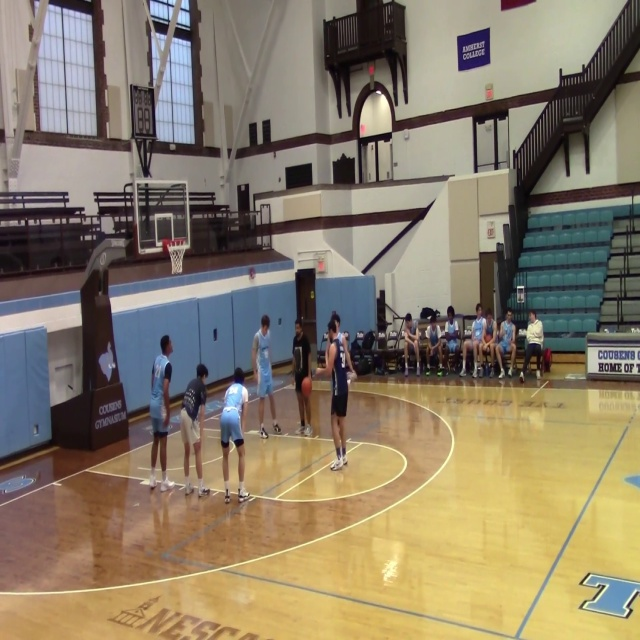Basketball: (301, 377, 312, 397)
